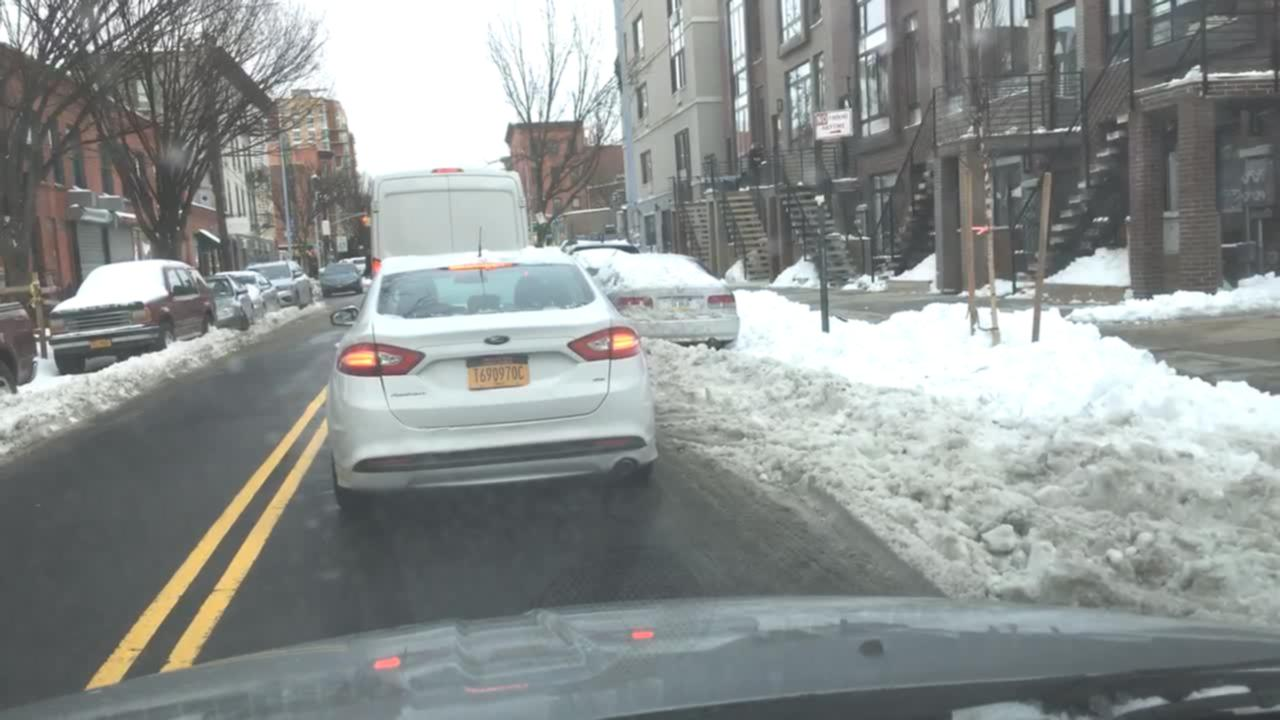ford: (480, 334, 520, 348)
